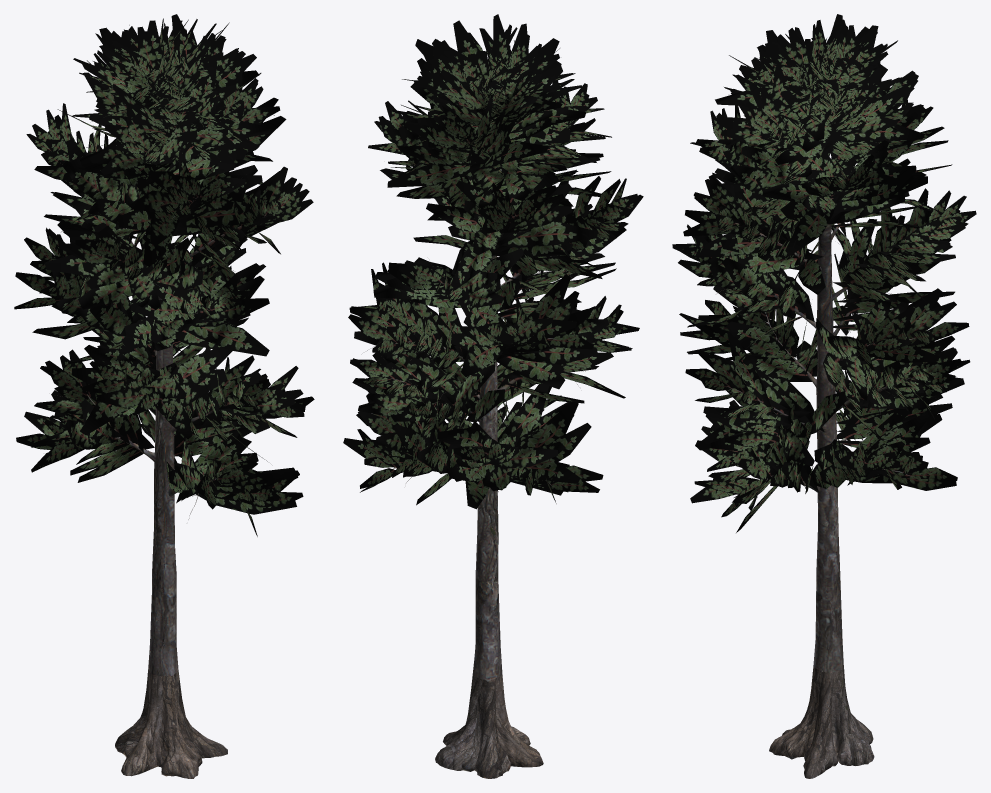
The model's file is SM_BaldCypress.fbx.
The picture shows the model from 3 angles, left to right: view 1: azimuth 30°, elevation 25°; view 2: azimuth 150°, elevation 25°; view 3: azimuth 270°, elevation 25°; orthographic projection.
Parts seen in each view (by area): view 1: SM_BaldCypress_LOD0; view 2: SM_BaldCypress_LOD0; view 3: SM_BaldCypress_LOD0.
Boxes of the visible parts, x1,y1,x2,y2 form: SM_BaldCypress_LOD0: (14,14,314,778); SM_BaldCypress_LOD0: (343,14,643,778); SM_BaldCypress_LOD0: (672,14,976,778).
Bounding box in the file's own units: 618 × 670 × 1758.
